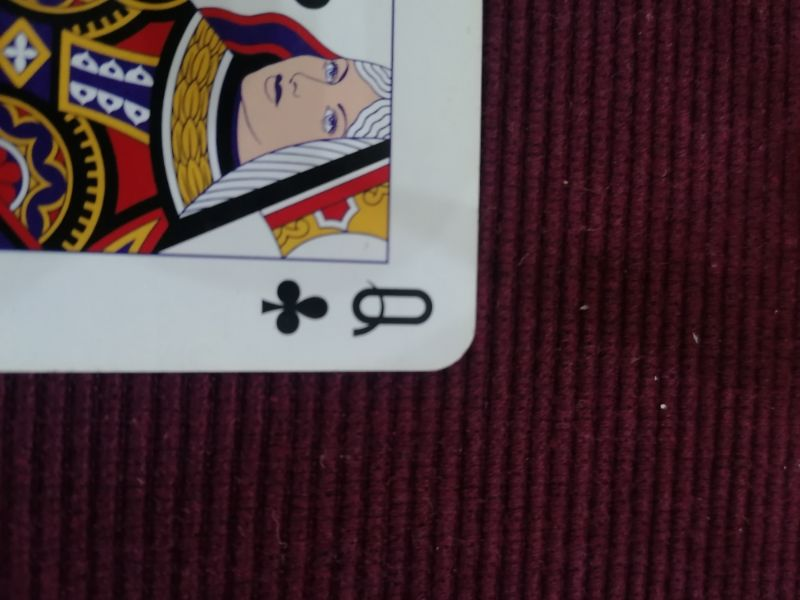Qc: (259, 275, 438, 339)
